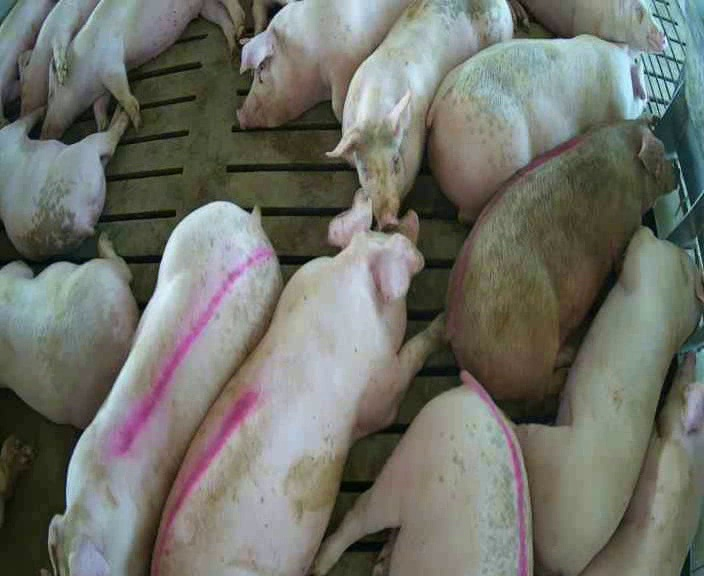pig: (153, 188, 442, 573), (49, 203, 280, 573), (515, 228, 702, 572), (448, 121, 673, 399), (314, 372, 531, 575), (328, 2, 511, 231), (429, 35, 646, 221), (582, 353, 703, 574), (0, 236, 137, 427), (238, 2, 407, 126), (0, 110, 127, 258), (17, 2, 96, 115), (525, 2, 666, 52), (0, 1, 54, 125)
